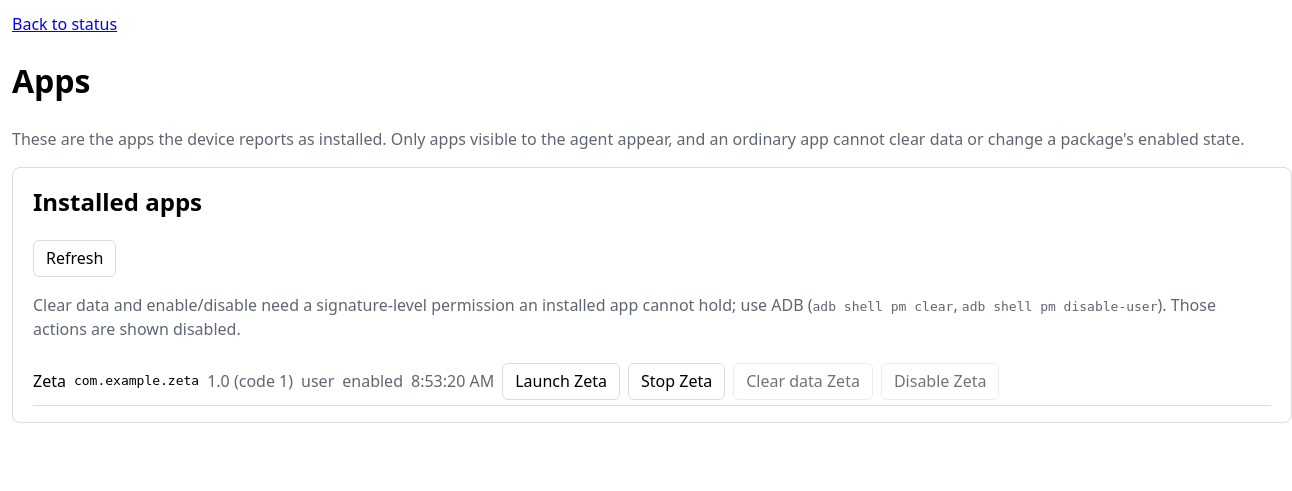
Test: the apps screen › renders the device's listing and names its actions
Check: the text "Zeta" is shown, box [33,369,66,393]
Click the button "Launch Zeta" at (561, 381), box [502,363,620,400]
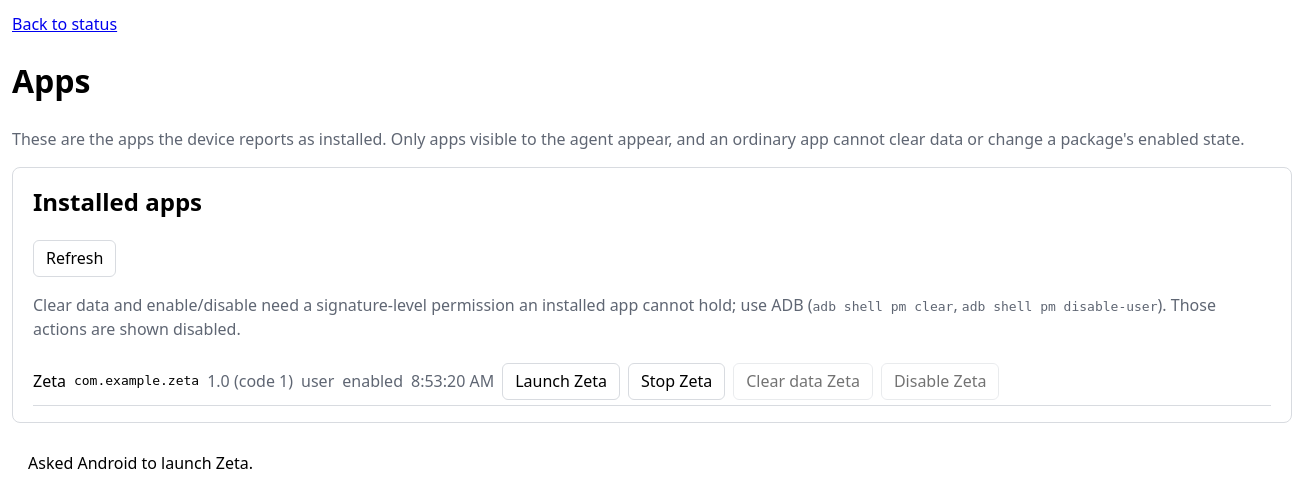
Check: the text "Asked Android to launch Zeta." is shown, box [28,452,253,474]
